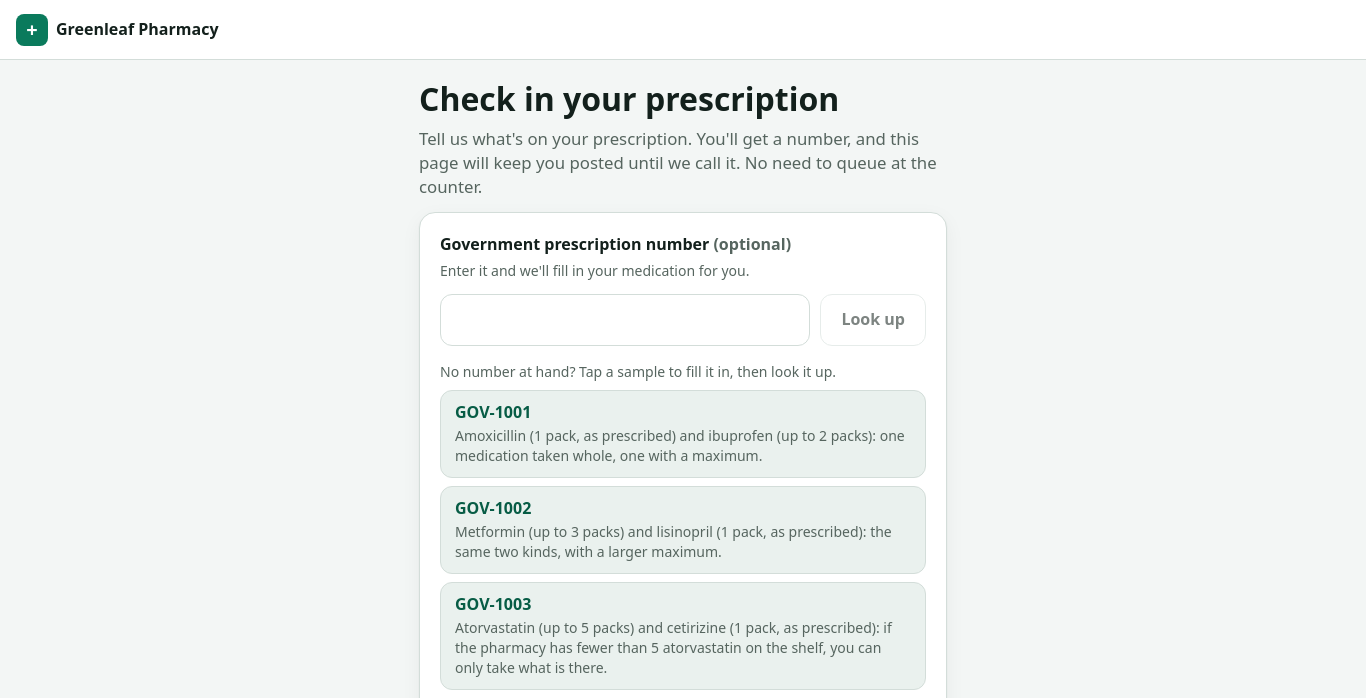
Test: check-in with a government prescription › the sample prescriptions › fill in the number when tapped, and ask the government system nothing yet
Click the button that starts with "GOV-1002" at (683, 530), box [440,486,926,574]
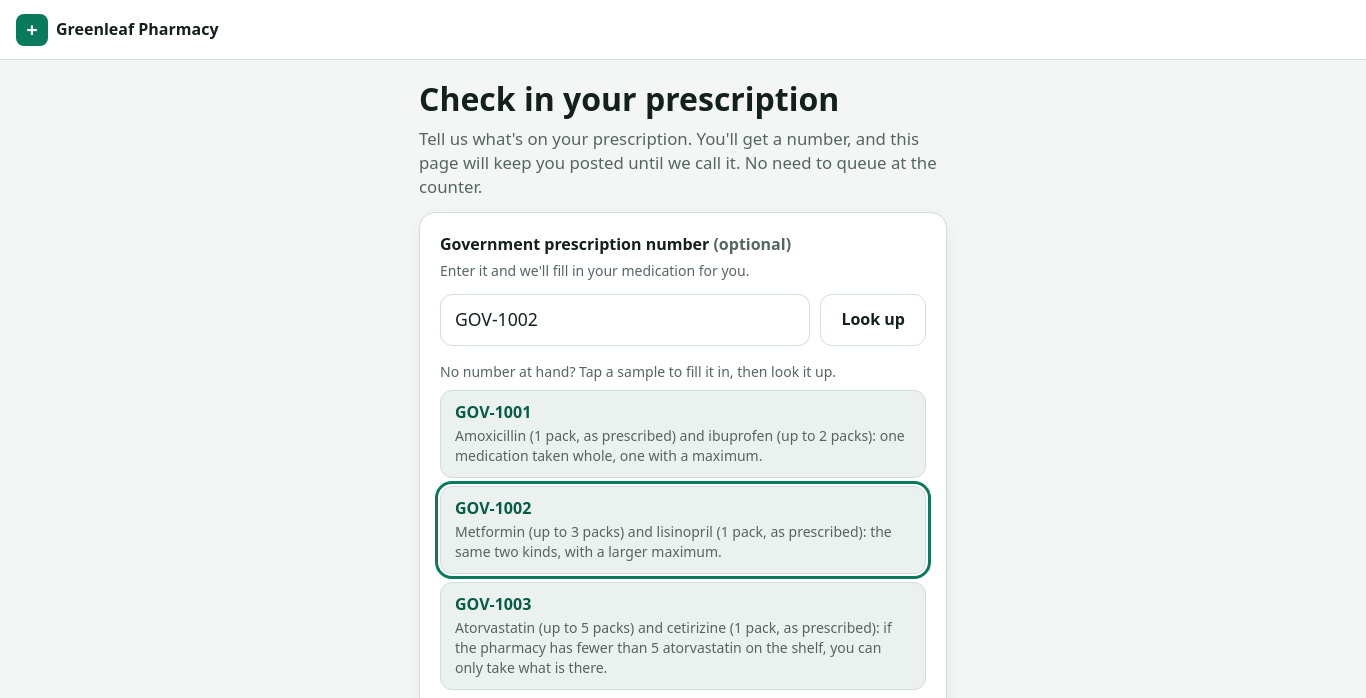
Result: the field labelled "Government prescription number (optional)" holds "GOV-1002" at [440,294,810,346]
Result: the button "Look up" is enabled at [820,294,926,346]
